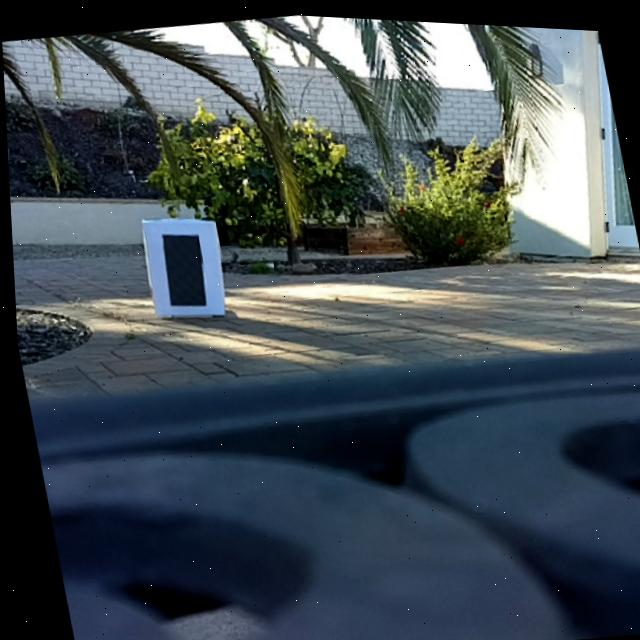led: (153, 226, 211, 311)
